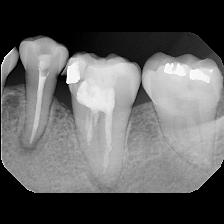apical_lesion: (61, 52, 144, 193), (12, 36, 70, 166)
